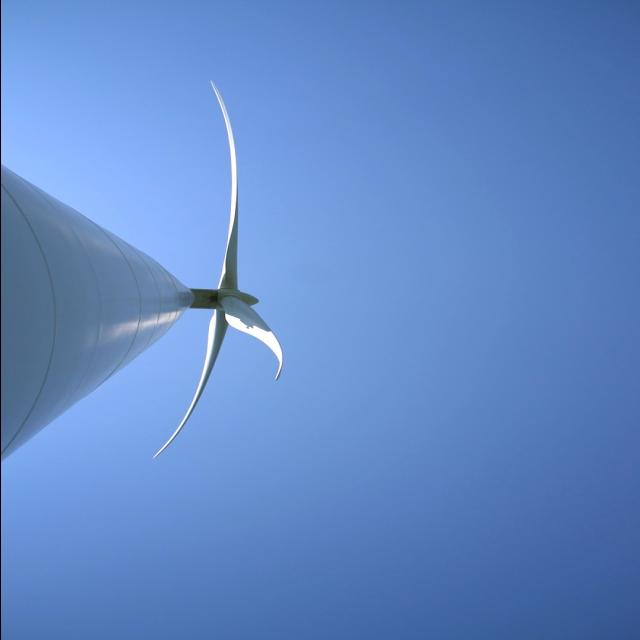blade 1: (208, 34, 272, 286)
blade 2: (227, 311, 297, 391)
blade 3: (140, 362, 221, 458)
